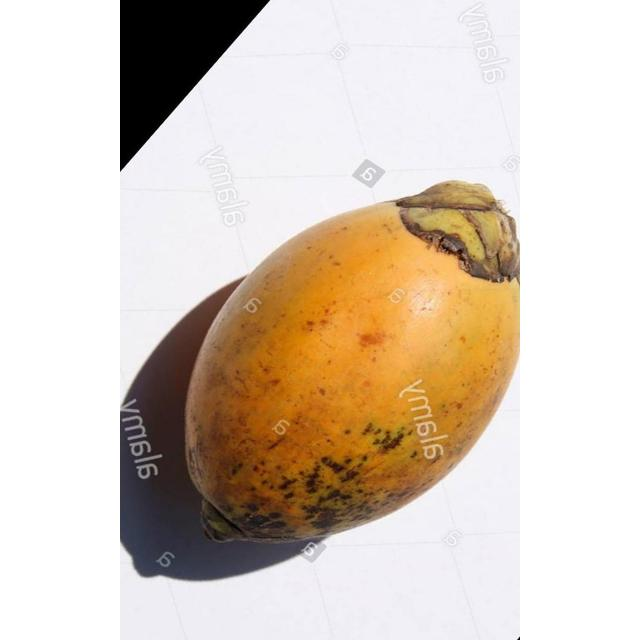good: (183, 180, 520, 547)
